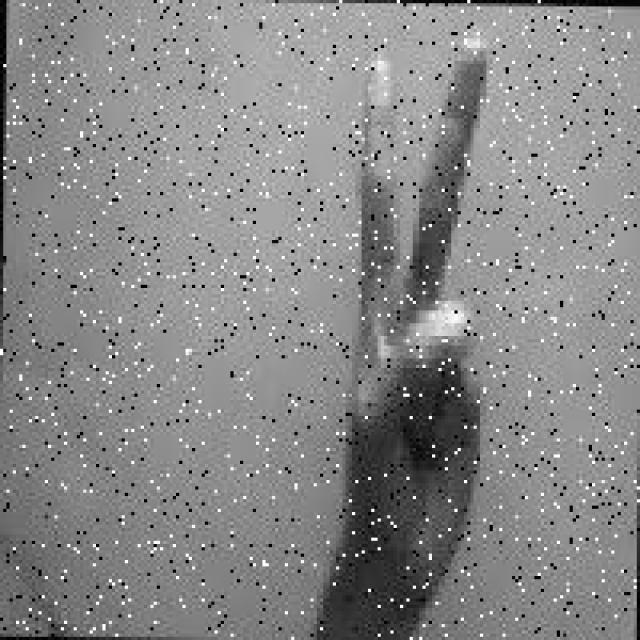V: (324, 22, 518, 589)
